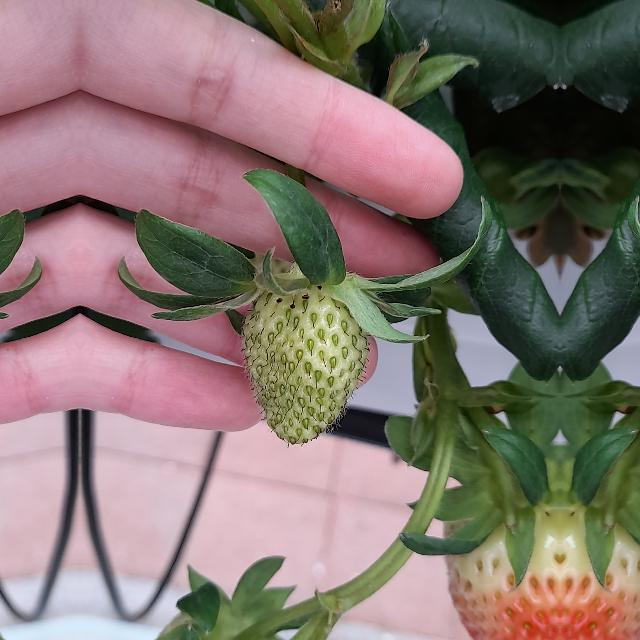Health_25: (242, 284, 368, 444)
Health_75: (442, 487, 560, 639), (560, 487, 640, 639)
